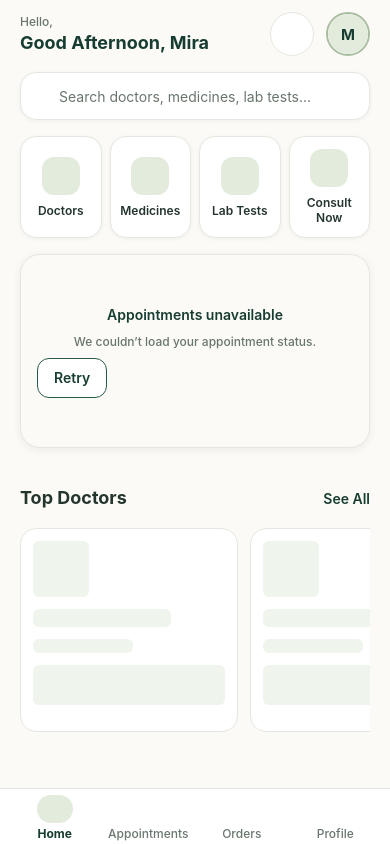
HomeScreen appointment banner › shows retry on API failure and does not display the promotion
Check: the text "Appointments unavailable" is shown, box 107,304 -> 283,325
Check: the text "Consult top doctors" is not shown
Click the button "Retry": (72, 378) 37,358 -> 107,398
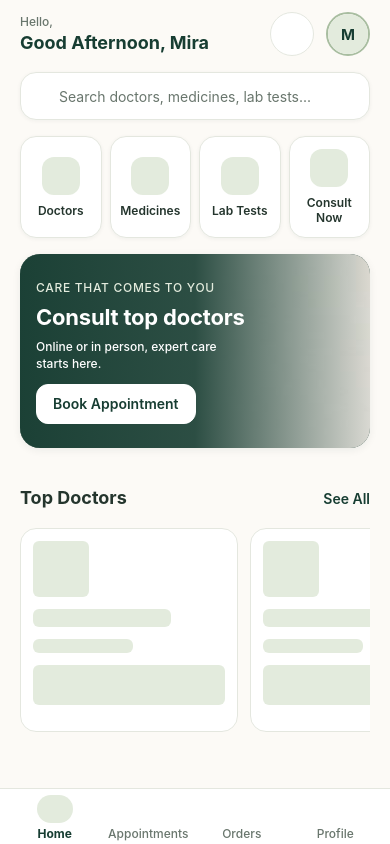
Check: the text "Consult top doctors" is shown, box 36,304 -> 249,330
